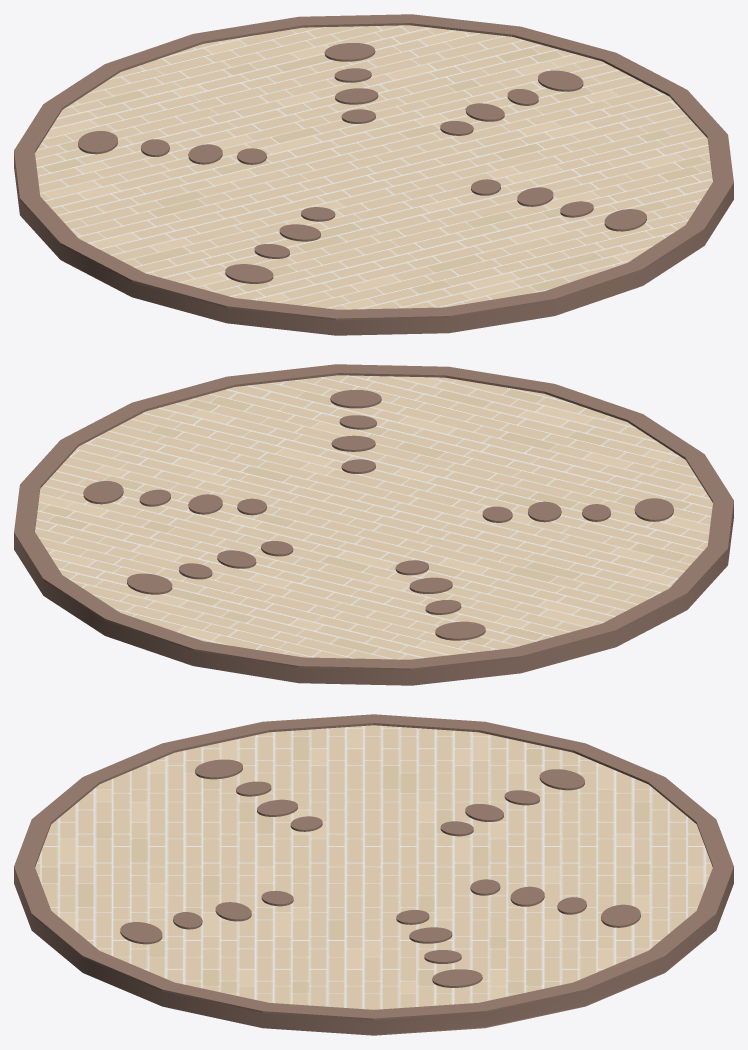
Rendered from map.fbx.
The picture shows the model from 3 angles, top to bottom: view 1: azimuth 30°, elevation 25°; view 2: azimuth 150°, elevation 25°; view 3: azimuth 270°, elevation 25°; orthographic projection.
Visible parts, largest first — view 1: pCylinder3, pCylinder2, pDisc1 (×5), pDisc3 (×5); view 2: pCylinder3, pCylinder2, pDisc1 (×5), pDisc3 (×5); view 3: pCylinder3, pCylinder2, pDisc1 (×5), pDisc3 (×5).
Part boxes in pixels (bbox=[...]): pCylinder3: bbox=[35, 25, 712, 309]; pCylinder2: bbox=[14, 14, 733, 335]; pDisc1 (×5): bbox=[78, 43, 646, 283]; pDisc3 (×5): bbox=[188, 88, 553, 241]; pCylinder3: bbox=[35, 375, 712, 659]; pCylinder2: bbox=[14, 364, 733, 685]; pDisc1 (×5): bbox=[83, 390, 673, 640]; pDisc3 (×5): bbox=[188, 435, 561, 593]; pCylinder3: bbox=[35, 725, 712, 1009]; pCylinder2: bbox=[14, 714, 733, 1035]; pDisc1 (×5): bbox=[120, 759, 640, 987]; pDisc3 (×5): bbox=[215, 799, 544, 943].
Bounding box in the file's own units: 88.37 × 2.32 × 88.37.
Materials: 2 (1 with a texture image).
